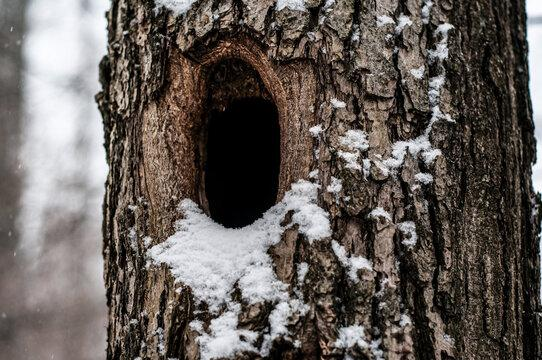hollow: (205, 97, 279, 227)
